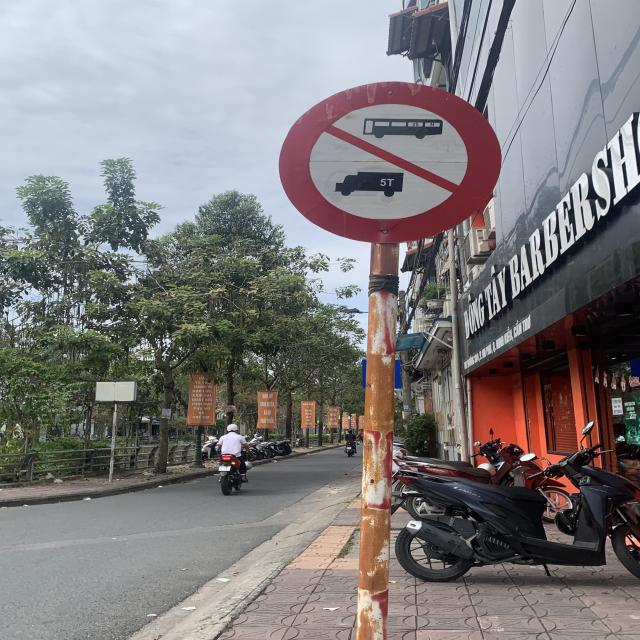Cam_XeTai_XeKhach: (277, 81, 504, 246)
